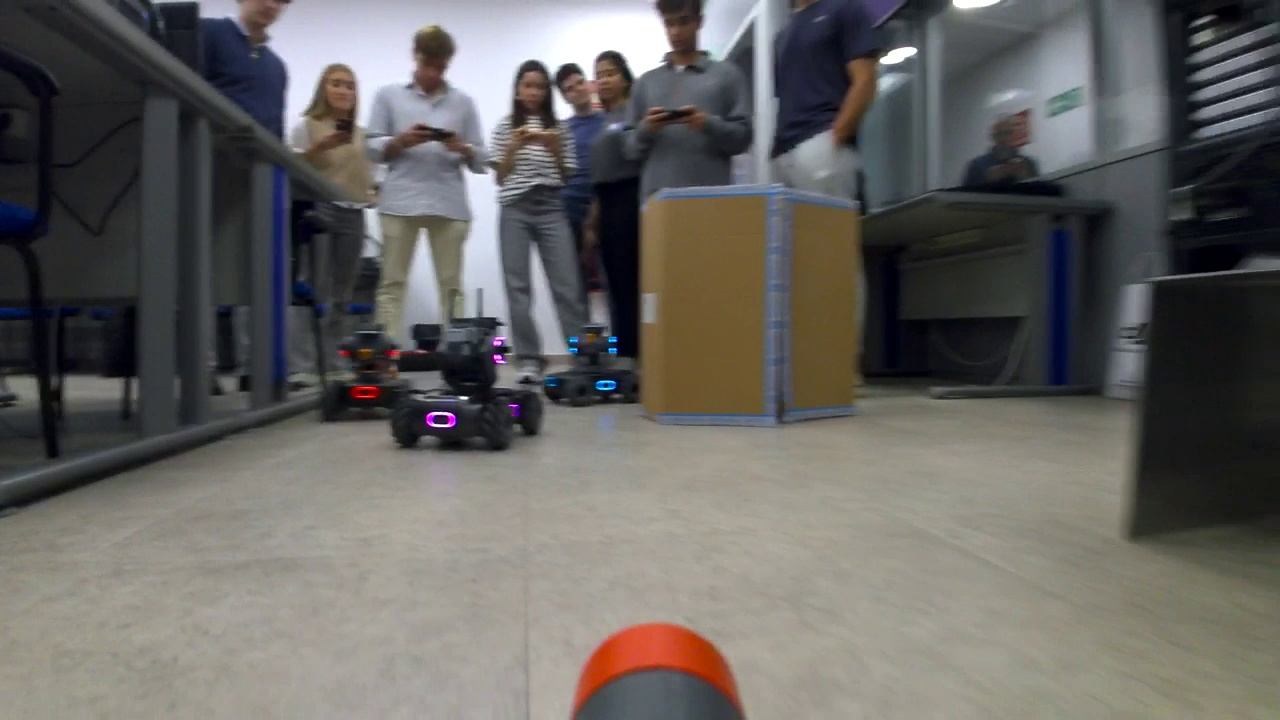robot: (393, 315, 539, 443), (317, 323, 416, 423), (544, 323, 642, 407)
